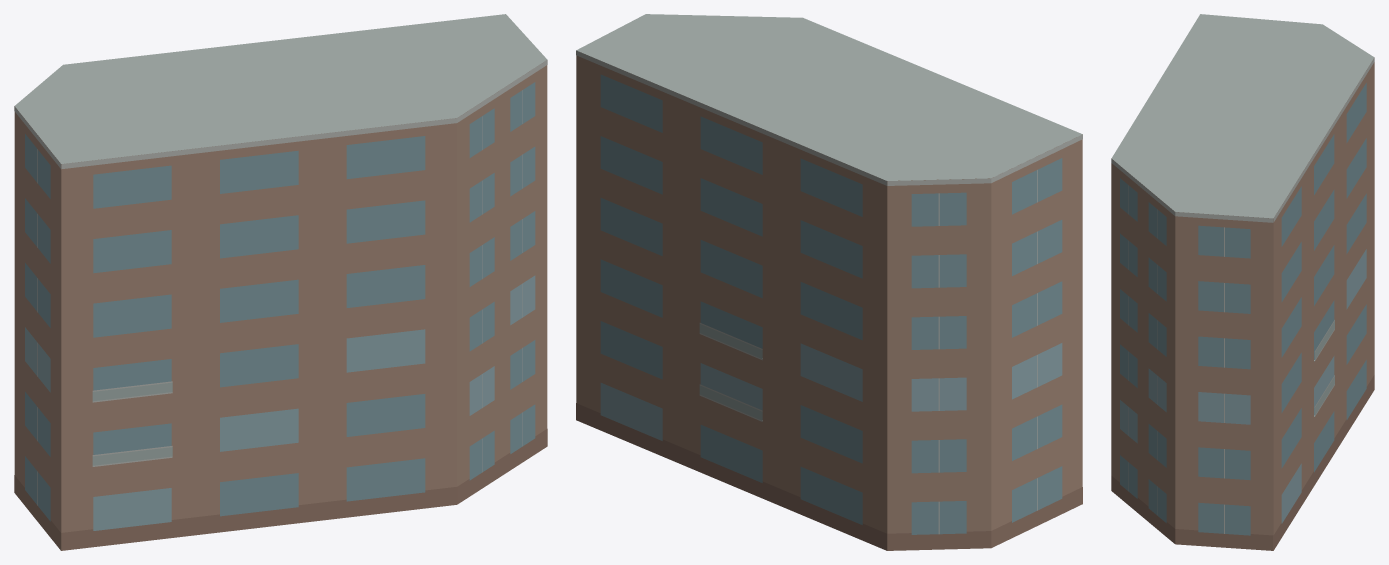
The model's file is survey-upis-32870203.glb.
3 views of the same model, side by side, from view 1: azimuth 30°, elevation 25°; view 2: azimuth 150°, elevation 25°; view 3: azimuth 270°, elevation 25° (orthographic). The views are drawn at different scales.
Parts seen in each view (by area): view 1: survey-upis-32870203.tmp; view 2: survey-upis-32870203.tmp; view 3: survey-upis-32870203.tmp.
Boxes of the visible parts, x1,y1,x2,y2 form: survey-upis-32870203.tmp: (14,14,547,550); survey-upis-32870203.tmp: (576,14,1082,550); survey-upis-32870203.tmp: (1111,14,1374,550).
Size of the model in its own units: 24.14 by 18.3 by 13.13.
